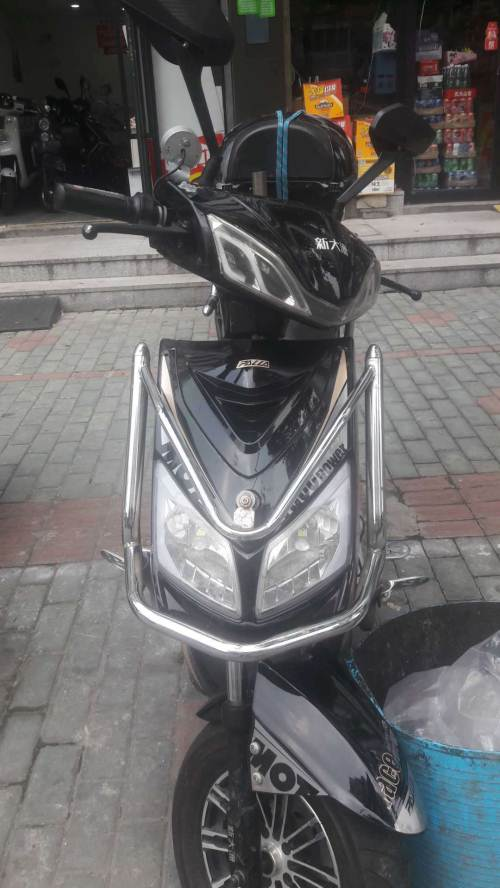电动车: (50, 1, 428, 886)
